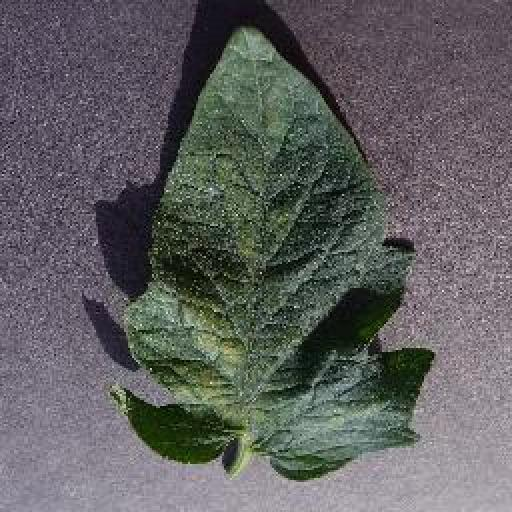disease_tomato: (112, 20, 438, 480)
